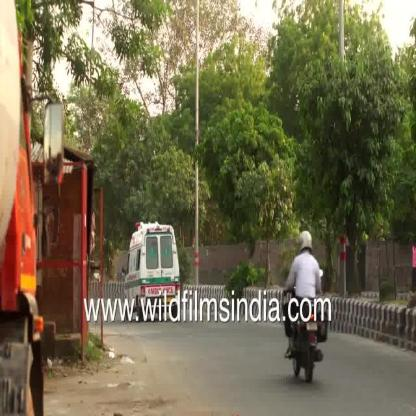priority: (118, 208, 190, 328)
